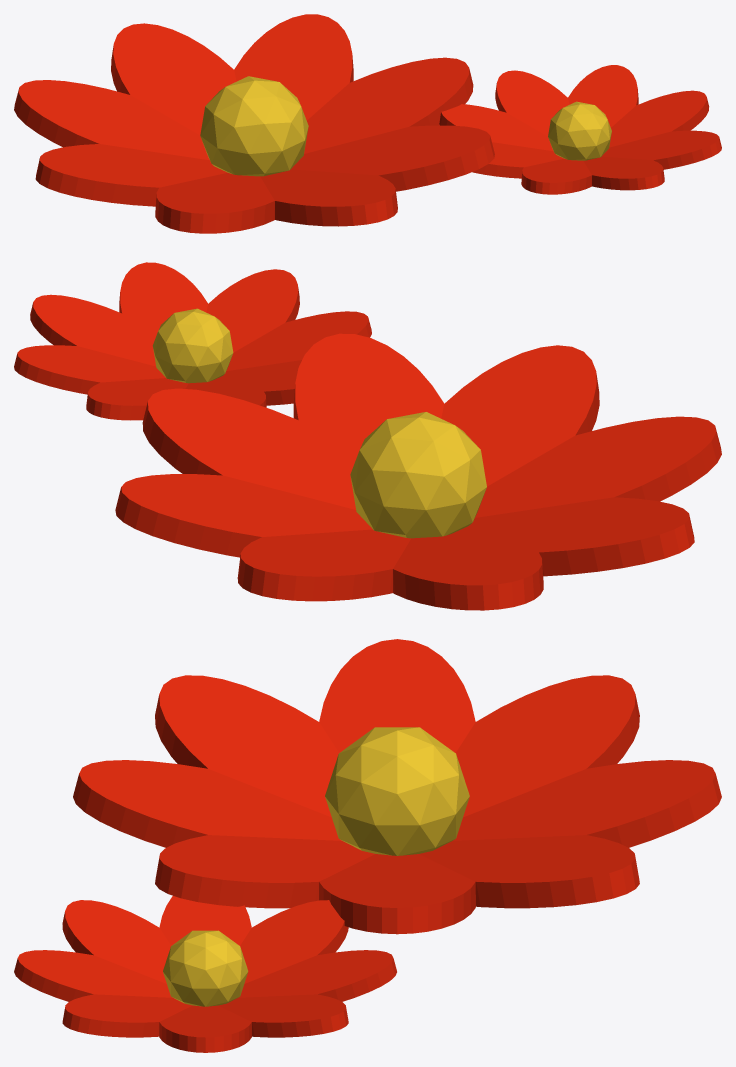
Rendered from Flowers.glb.
3 views of the same model, one above another, from view 1: azimuth 30°, elevation 25°; view 2: azimuth 150°, elevation 25°; view 3: azimuth 270°, elevation 25° (orthographic). The views are drawn at different scales.
Visible parts, largest first — view 1: Circle.002, Circle.007, Icosphere, Circle, Circle.003, Circle.006, Circle.001, Circle.004, Circle.005, Circle.010, Icosphere.001, Circle.008 (+6 smaller); view 2: Circle.002, Circle.005, Icosphere, Circle.004, Circle.001, Circle.006, Circle.003, Circle, Circle.007, Circle.010, Icosphere.001, Circle.012 (+6 smaller); view 3: Circle.005, Circle.007, Circle, Circle.004, Icosphere, Circle.001, Circle.006, Circle.003, Circle.002, Circle.013, Circle.015, Circle.012 (+6 smaller).
Boxes of the visible parts, x1,y1,x2,y2 form: Circle.002: [304, 57, 473, 153]; Circle.007: [14, 80, 209, 160]; Icosphere: [200, 76, 308, 176]; Circle: [111, 23, 236, 134]; Circle.003: [291, 125, 494, 191]; Circle.006: [35, 144, 227, 206]; Circle.001: [234, 14, 353, 120]; Circle.004: [260, 169, 397, 226]; Circle.005: [155, 172, 274, 233]; Circle.010: [609, 90, 709, 147]; Icosphere.001: [548, 101, 611, 160]; Circle.008: [495, 70, 569, 136]; Circle.002: [142, 388, 355, 509]; Circle.005: [475, 416, 721, 517]; Icosphere: [350, 412, 486, 538]; Circle.004: [441, 345, 599, 486]; Circle.001: [115, 474, 372, 557]; Circle.006: [452, 497, 694, 576]; Circle.003: [293, 333, 444, 467]; Circle: [237, 529, 410, 601]; Circle.007: [393, 533, 543, 610]; Circle.010: [30, 294, 155, 366]; Icosphere.001: [152, 308, 233, 383]; Circle.012: [206, 269, 299, 352]; Circle.005: [155, 675, 338, 817]; Circle.007: [456, 675, 639, 817]; Circle: [453, 760, 721, 847]; Circle.004: [73, 760, 341, 847]; Icosphere: [325, 727, 469, 855]; Circle.001: [419, 835, 639, 908]; Circle.006: [319, 639, 475, 752]; Circle.003: [155, 835, 374, 908]; Circle.002: [319, 854, 475, 934]; Circle.013: [62, 900, 170, 983]; Circle.015: [240, 900, 348, 983]; Circle.012: [14, 950, 172, 1001].
Size of the model in its own units: 1.1 by 0.1844 by 0.8661.
